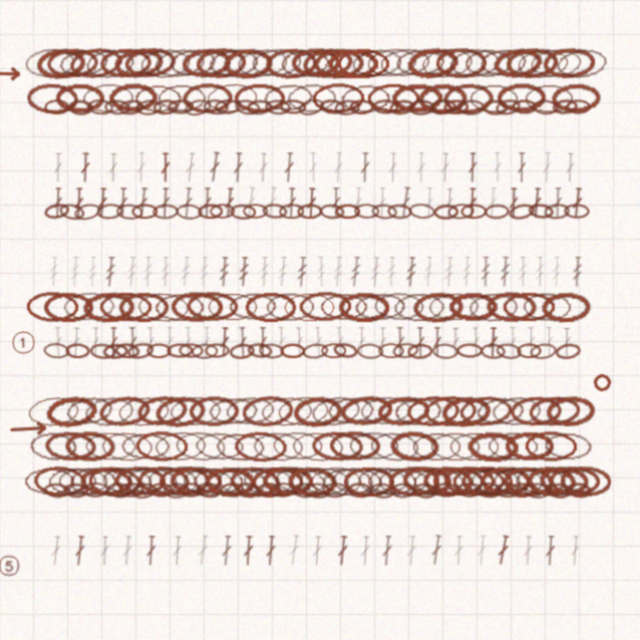chain: (309, 391, 363, 428), (69, 45, 124, 81), (153, 45, 208, 81), (553, 45, 608, 81), (98, 392, 153, 428), (64, 391, 117, 428), (57, 45, 111, 81), (84, 45, 138, 81), (301, 45, 355, 81), (45, 392, 99, 428), (154, 392, 208, 428), (419, 45, 474, 80), (273, 462, 328, 497), (113, 45, 166, 81), (491, 45, 544, 81), (83, 392, 136, 428), (124, 45, 178, 80), (378, 45, 432, 80), (405, 45, 459, 80), (447, 45, 501, 80), (136, 392, 190, 427), (241, 392, 295, 427), (339, 392, 393, 427), (126, 462, 180, 497), (515, 46, 570, 80), (27, 393, 82, 427), (88, 463, 143, 497), (167, 45, 220, 80), (207, 45, 260, 80), (365, 45, 418, 80), (139, 46, 193, 80), (350, 46, 404, 80), (528, 46, 582, 80), (117, 393, 171, 427), (376, 393, 430, 427), (458, 393, 512, 427), (236, 46, 289, 80), (527, 393, 580, 427), (229, 463, 282, 497), (250, 46, 304, 79), (504, 46, 558, 79), (541, 46, 595, 79), (205, 81, 259, 114), (169, 393, 223, 426), (276, 393, 330, 426), (406, 393, 460, 426), (154, 428, 208, 461), (101, 463, 155, 496), (36, 46, 88, 80), (181, 46, 233, 80), (292, 393, 344, 427), (440, 393, 492, 427), (474, 393, 526, 427), (368, 428, 420, 462), (24, 46, 77, 79), (278, 46, 331, 79), (393, 46, 446, 79), (224, 393, 277, 426), (423, 393, 476, 426), (174, 428, 227, 461), (34, 463, 87, 496), (147, 463, 200, 496), (216, 463, 269, 496), (330, 463, 383, 496), (195, 46, 247, 79), (477, 46, 529, 79), (262, 81, 314, 114), (325, 393, 377, 426), (359, 393, 411, 426), (392, 393, 444, 426), (544, 393, 596, 426), (138, 463, 190, 496), (242, 463, 294, 496), (401, 463, 453, 496), (422, 463, 474, 496), (525, 463, 577, 496), (265, 47, 318, 79), (137, 290, 190, 322), (353, 290, 406, 322), (392, 290, 445, 322), (427, 290, 480, 322), (260, 394, 313, 426), (45, 429, 98, 461), (101, 429, 154, 461), (234, 429, 287, 461), (291, 429, 344, 461), (311, 429, 364, 461), (80, 464, 133, 496), (298, 464, 351, 496), (321, 464, 374, 496), (469, 464, 522, 496), (490, 393, 541, 426), (29, 428, 80, 461), (389, 428, 440, 461), (538, 463, 589, 496), (47, 47, 99, 79), (100, 47, 152, 79), (313, 47, 365, 79), (27, 82, 79, 114), (339, 82, 391, 114), (83, 290, 135, 322), (412, 290, 464, 322), (207, 394, 259, 426), (509, 394, 561, 426), (194, 429, 246, 461), (214, 429, 266, 461), (252, 429, 304, 461), (466, 429, 518, 461), (182, 464, 234, 496), (204, 464, 256, 496), (502, 464, 554, 496), (82, 82, 135, 113), (312, 82, 365, 113), (27, 290, 80, 321), (63, 290, 116, 321), (136, 429, 189, 460), (513, 464, 566, 495), (223, 47, 274, 79), (417, 82, 468, 114), (442, 82, 493, 114), (550, 82, 601, 114), (467, 290, 518, 322), (540, 290, 591, 322), (542, 429, 593, 461), (287, 464, 338, 496), (435, 47, 487, 78), (171, 290, 223, 321), (299, 290, 351, 321), (373, 290, 425, 321), (485, 290, 537, 321), (65, 429, 117, 460), (272, 429, 324, 460), (329, 429, 381, 460), (486, 429, 538, 460), (524, 429, 576, 460), (170, 464, 222, 495), (310, 464, 362, 495), (356, 464, 408, 495), (388, 464, 440, 495), (461, 464, 513, 495), (559, 464, 611, 495), (337, 48, 390, 78), (182, 82, 233, 113), (286, 82, 337, 113), (187, 290, 238, 321), (265, 290, 316, 321), (521, 290, 572, 321), (189, 394, 240, 425), (348, 429, 399, 460), (115, 464, 166, 495), (159, 464, 210, 495), (262, 464, 313, 495), (366, 464, 417, 495), (443, 464, 494, 495), (479, 464, 530, 495), (492, 464, 543, 495), (548, 464, 599, 495), (367, 83, 419, 113), (100, 291, 152, 321), (207, 291, 259, 321), (245, 291, 297, 321), (283, 291, 335, 321), (502, 291, 554, 321), (85, 430, 137, 460), (429, 430, 481, 460), (24, 465, 76, 495), (192, 465, 244, 495), (252, 465, 304, 495), (412, 465, 464, 495), (452, 465, 504, 495), (291, 47, 341, 78), (463, 47, 513, 78), (109, 82, 159, 113), (496, 82, 546, 113), (228, 290, 278, 321), (69, 464, 119, 495), (327, 48, 378, 78), (157, 83, 208, 113), (234, 83, 285, 113), (391, 83, 442, 113), (523, 83, 574, 113), (44, 291, 95, 321), (154, 291, 205, 321), (338, 291, 389, 321), (120, 430, 171, 460), (448, 430, 499, 460), (48, 465, 99, 495), (58, 465, 109, 495), (343, 465, 394, 495), (377, 465, 428, 495), (432, 465, 483, 495), (56, 83, 106, 113), (134, 83, 184, 113), (468, 83, 518, 113), (119, 291, 169, 321), (319, 291, 369, 321), (448, 291, 498, 321), (411, 430, 461, 460), (504, 430, 554, 460), (297, 96, 326, 117), (184, 97, 212, 117), (74, 201, 102, 221), (507, 201, 535, 221), (59, 201, 86, 221), (127, 340, 155, 359), (494, 97, 521, 116), (44, 201, 71, 220), (332, 340, 359, 359), (234, 98, 261, 116), (388, 98, 415, 116), (302, 341, 329, 359), (529, 341, 556, 359), (131, 480, 158, 498), (119, 98, 145, 116), (334, 98, 360, 116), (229, 341, 255, 359), (495, 341, 521, 359), (554, 341, 580, 359), (429, 98, 456, 115), (97, 202, 124, 219), (408, 202, 435, 219), (447, 202, 474, 219), (44, 341, 71, 358), (392, 341, 419, 358), (88, 98, 114, 115), (153, 98, 179, 115), (203, 98, 229, 115), (319, 98, 345, 115), (551, 98, 577, 115), (262, 202, 288, 219), (527, 202, 553, 219), (543, 202, 569, 219), (115, 341, 141, 358), (247, 341, 273, 358), (196, 480, 222, 497), (235, 480, 261, 497), (347, 480, 373, 497), (475, 480, 501, 497), (565, 480, 591, 497), (136, 99, 163, 115), (176, 203, 203, 219), (90, 342, 117, 358), (44, 481, 71, 497), (523, 481, 550, 497), (105, 99, 131, 115), (265, 99, 291, 115), (408, 99, 434, 115), (458, 99, 484, 115), (117, 203, 143, 219), (153, 203, 179, 219), (230, 203, 256, 219), (319, 203, 345, 219), (371, 203, 397, 219), (103, 342, 129, 358), (192, 342, 218, 358), (357, 342, 383, 358), (432, 342, 458, 358), (107, 481, 133, 497), (164, 481, 190, 497), (292, 481, 318, 497), (305, 481, 331, 497), (369, 481, 395, 497), (412, 481, 438, 497), (69, 99, 94, 115), (247, 99, 272, 115), (482, 99, 507, 115), (532, 99, 557, 115), (387, 203, 412, 219), (433, 203, 458, 219), (484, 203, 509, 219), (259, 342, 284, 358), (407, 342, 432, 358), (480, 342, 505, 358), (64, 481, 89, 497), (390, 481, 415, 497), (546, 481, 571, 497), (168, 99, 194, 114), (215, 99, 241, 114), (280, 99, 306, 114), (372, 99, 398, 114), (132, 203, 158, 218), (460, 203, 486, 218), (563, 203, 589, 218), (167, 342, 193, 357), (378, 342, 404, 357), (456, 342, 482, 357), (83, 481, 109, 496), (270, 481, 296, 496), (322, 481, 348, 496), (432, 481, 458, 496), (456, 481, 482, 496), (45, 99, 70, 114), (349, 99, 374, 114), (443, 99, 468, 114), (511, 99, 536, 114), (565, 99, 590, 114), (198, 203, 223, 218), (210, 203, 235, 218), (243, 203, 268, 218), (279, 203, 304, 218), (297, 203, 322, 218), (335, 203, 360, 218), (354, 203, 379, 218), (66, 342, 91, 357), (147, 342, 172, 357), (179, 342, 204, 357), (205, 342, 230, 357), (280, 342, 305, 357), (321, 342, 346, 357), (516, 342, 541, 357), (119, 481, 144, 496), (149, 481, 174, 496), (179, 481, 204, 496), (220, 481, 245, 496), (257, 481, 282, 496), (494, 481, 519, 496), (509, 481, 534, 496)
double: (495, 533, 510, 564), (208, 151, 222, 182), (265, 186, 279, 217), (398, 186, 412, 217), (287, 533, 301, 564), (429, 533, 443, 564), (244, 186, 257, 217), (197, 533, 210, 564), (184, 152, 197, 182), (137, 187, 150, 217), (223, 187, 236, 217), (570, 187, 583, 217), (50, 534, 63, 564), (74, 534, 87, 564), (336, 534, 349, 564), (283, 152, 295, 182), (540, 152, 552, 182), (97, 187, 109, 217), (182, 187, 194, 217), (486, 187, 498, 217), (530, 187, 542, 217), (334, 326, 346, 356), (122, 534, 134, 564), (221, 534, 233, 564), (265, 534, 277, 564), (311, 534, 323, 564), (359, 534, 371, 564), (381, 534, 393, 564), (405, 534, 417, 564), (475, 534, 487, 564), (568, 534, 580, 564), (136, 152, 147, 182), (233, 152, 244, 182), (258, 152, 269, 182), (333, 152, 344, 182), (387, 152, 398, 182), (439, 152, 450, 182), (564, 152, 575, 182), (53, 187, 64, 217), (74, 187, 85, 217), (118, 187, 129, 217), (160, 187, 171, 217), (202, 187, 213, 217), (286, 187, 297, 217), (306, 187, 317, 217), (352, 187, 363, 217), (376, 187, 387, 217), (423, 187, 434, 217), (443, 187, 454, 217), (466, 187, 477, 217), (71, 326, 82, 356), (128, 326, 139, 356), (201, 326, 212, 356), (219, 326, 230, 356), (313, 326, 324, 356), (487, 326, 498, 356), (100, 534, 111, 564), (146, 534, 157, 564), (172, 534, 183, 564), (243, 534, 254, 564), (453, 534, 464, 564), (522, 534, 533, 564), (544, 534, 555, 564), (54, 152, 64, 182), (81, 152, 91, 182), (109, 152, 119, 182), (161, 152, 171, 182), (308, 152, 318, 182), (360, 152, 370, 182), (416, 152, 426, 182), (467, 152, 477, 182), (492, 152, 502, 182), (516, 152, 526, 182), (331, 187, 341, 217), (508, 187, 518, 217), (552, 187, 562, 217), (54, 326, 64, 356), (91, 326, 101, 356), (109, 326, 119, 356), (146, 326, 156, 356), (165, 326, 175, 356), (183, 326, 193, 356), (238, 326, 248, 356), (258, 326, 268, 356), (276, 326, 286, 356), (294, 326, 304, 356), (356, 326, 366, 356), (377, 326, 387, 356), (395, 326, 405, 356), (415, 326, 425, 356), (432, 326, 442, 356), (450, 326, 460, 356), (470, 326, 480, 356), (507, 326, 517, 356), (525, 326, 535, 356), (543, 326, 553, 356), (561, 326, 571, 356)
noise: (11, 328, 37, 354), (10, 419, 49, 436), (0, 551, 23, 577), (590, 370, 612, 392), (0, 66, 23, 81)
treble: (276, 256, 289, 286), (349, 256, 362, 286), (70, 256, 82, 286), (105, 256, 117, 286), (126, 256, 138, 286), (180, 256, 192, 286), (238, 256, 250, 286), (296, 256, 308, 286), (332, 256, 344, 286), (369, 256, 381, 286), (405, 256, 417, 286), (422, 256, 434, 286), (49, 256, 60, 286), (88, 256, 99, 286), (143, 256, 154, 286), (199, 256, 210, 286), (219, 256, 230, 286), (259, 256, 270, 286), (386, 256, 397, 286), (443, 256, 454, 286), (461, 256, 472, 286), (499, 256, 510, 286), (550, 256, 561, 286), (571, 256, 582, 286), (161, 256, 171, 286), (316, 256, 326, 286), (480, 256, 490, 286), (517, 256, 527, 286), (534, 256, 544, 286)
